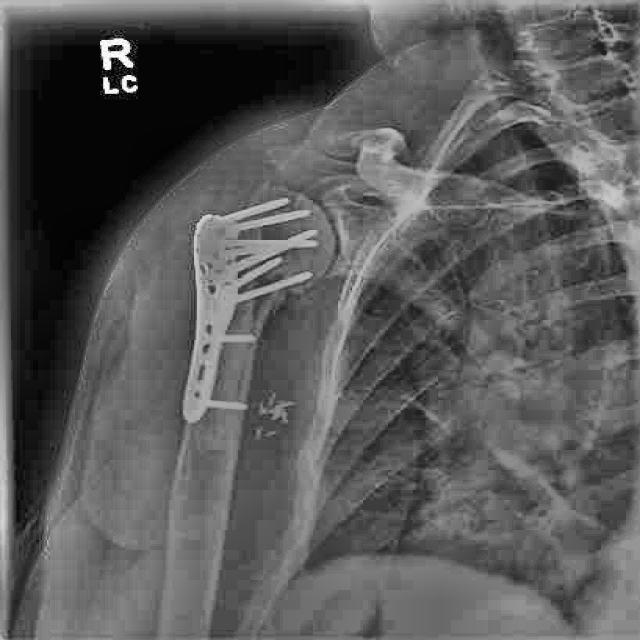shoulder fracture: (243, 285, 292, 342)
